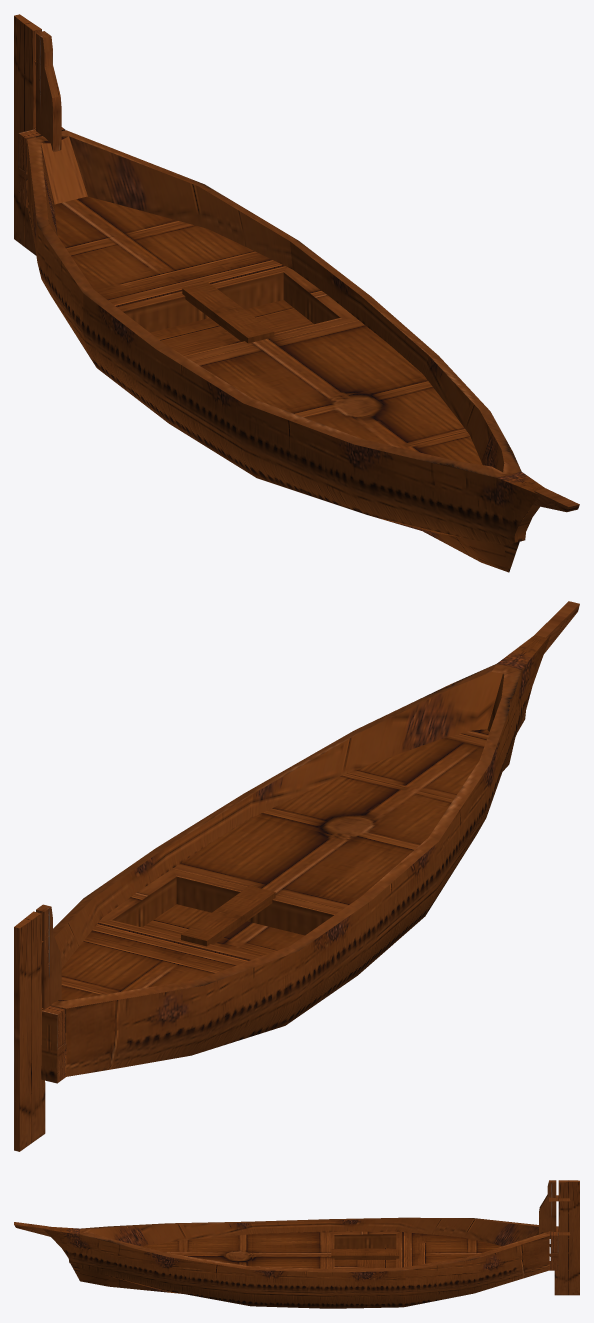
Rendered from ship_merc.dae.
3 renders of one model, top to bottom at view 1: azimuth 30°, elevation 25°; view 2: azimuth 150°, elevation 25°; view 3: azimuth 270°, elevation 25°, orthographic. The views are drawn at different scales.
Parts seen in each view (by area): view 1: ship_merc_macrob; view 2: ship_merc_macrob; view 3: ship_merc_macrob.
Part boxes in pixels (<box>): ship_merc_macrob: <box>14,14,579,572</box>; ship_merc_macrob: <box>14,601,579,1151</box>; ship_merc_macrob: <box>14,1180,579,1308</box>.
Bounding box in the file's own units: 6.15 × 27.58 × 6.41.
